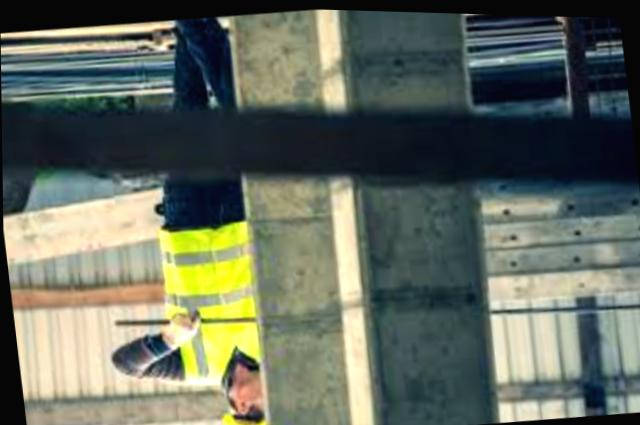helmet: (212, 405, 304, 425)
vest: (118, 204, 292, 401)
